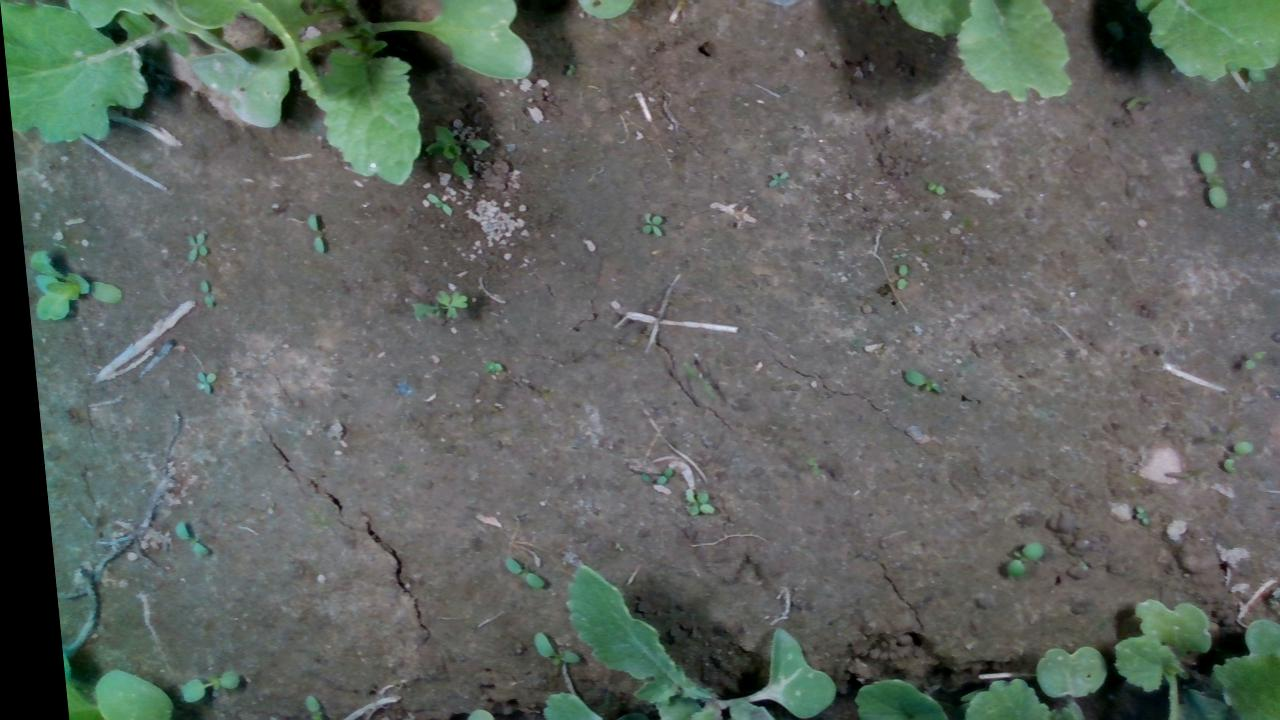weed: (162, 666, 228, 701), (1189, 148, 1225, 210), (404, 289, 463, 320), (518, 631, 567, 665), (989, 540, 1035, 576), (159, 518, 199, 557), (489, 554, 534, 588), (890, 368, 939, 394), (1208, 439, 1246, 472), (671, 487, 704, 517), (299, 211, 321, 255), (177, 230, 204, 259), (633, 208, 660, 236), (184, 369, 208, 394), (1235, 348, 1261, 370), (762, 167, 785, 189), (191, 277, 206, 307), (1119, 503, 1139, 523), (887, 262, 902, 288), (644, 466, 664, 484), (921, 181, 942, 194)
